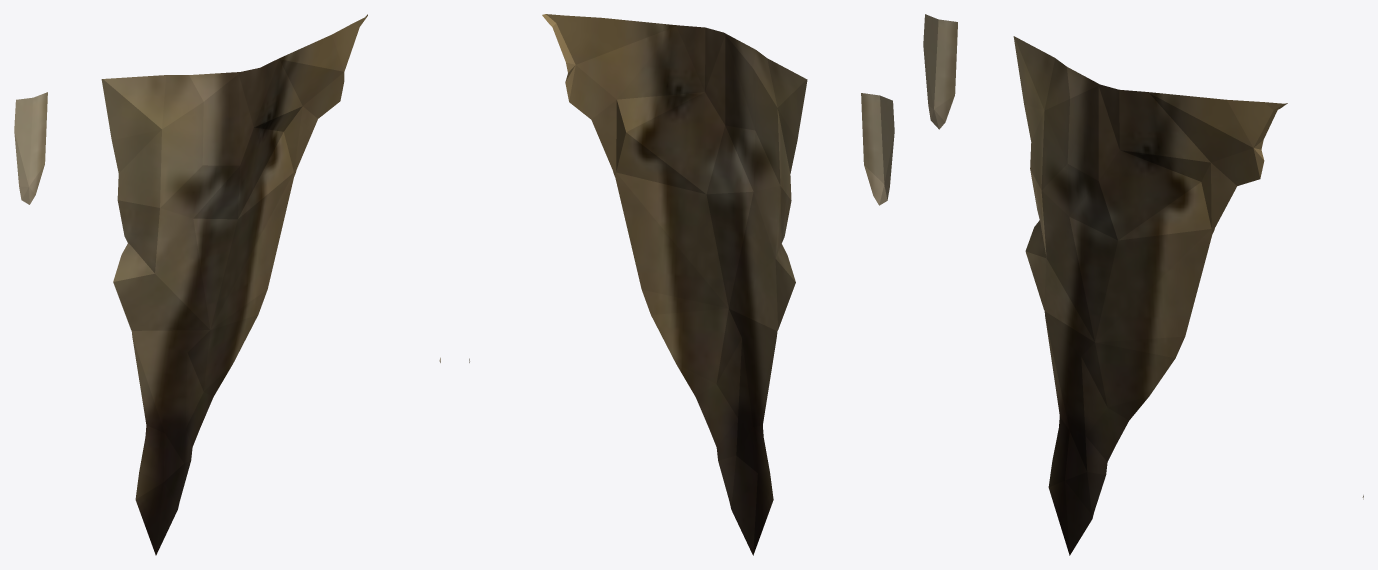
3 views of the same model, side by side, from view 1: azimuth 30°, elevation 25°; view 2: azimuth 150°, elevation 25°; view 3: azimuth 330°, elevation 25° (orthographic). The views are drawn at different scales.
Size of the model in its own units: 0.4695 by 0.5161 by 0.0537.
Materials: 1 (1 with a texture image).
